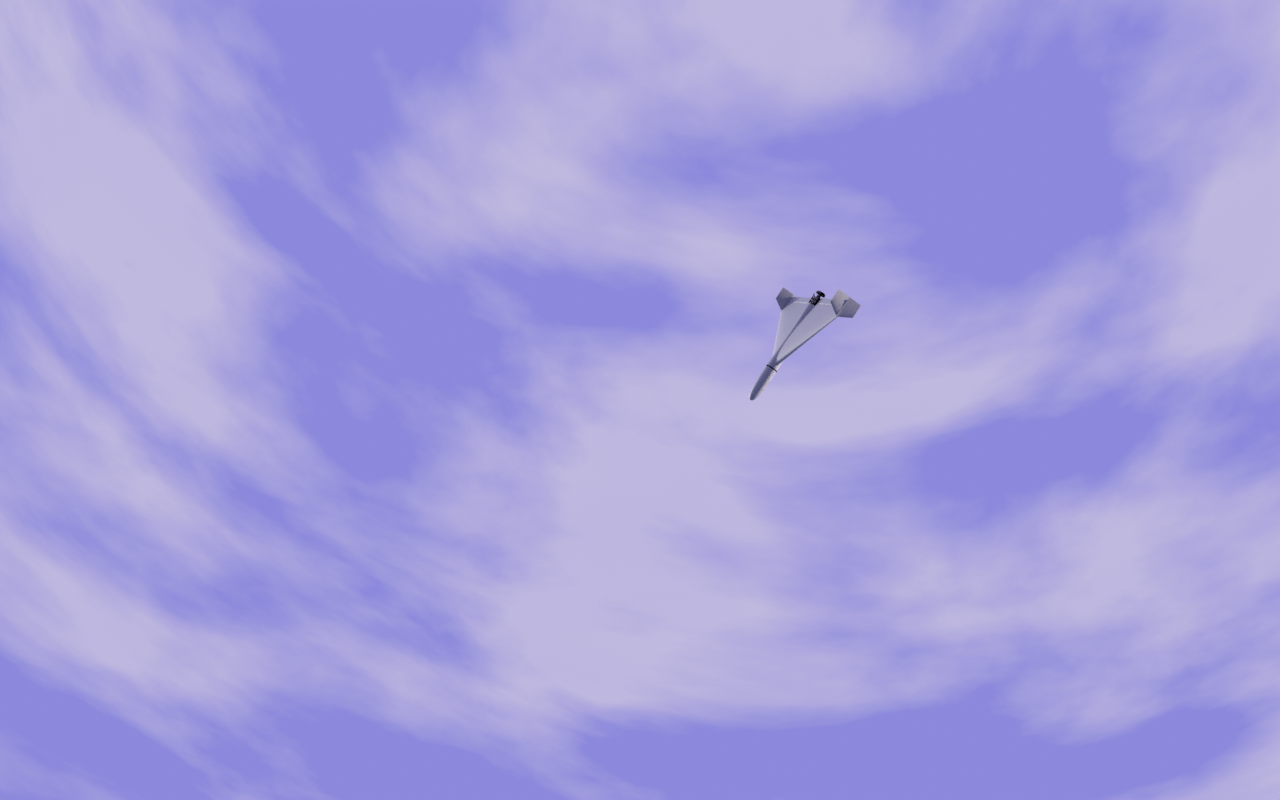shahed: (749, 287, 863, 402)
